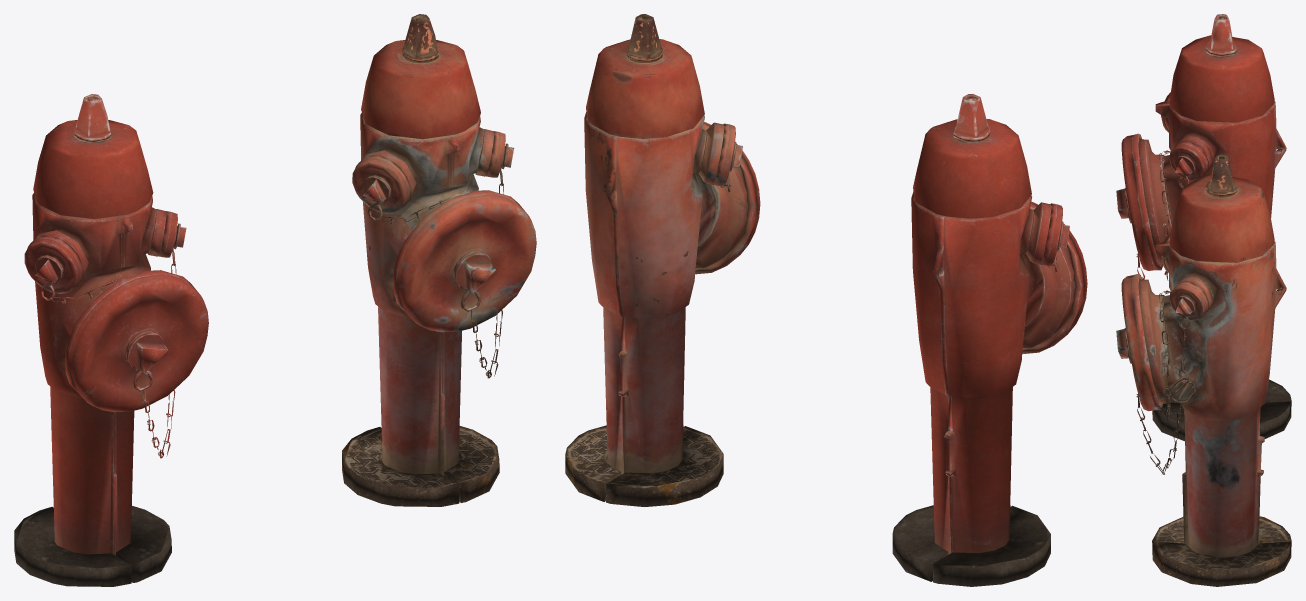
Rendered from fire_hydrant.glb.
The picture shows the model from 3 angles, left to right: view 1: azimuth 30°, elevation 25°; view 2: azimuth 150°, elevation 25°; view 3: azimuth 270°, elevation 25°; orthographic projection. The views are drawn at different scales.
Visible parts, largest first — view 1: fire_hydrant, fire_hydrant_aged, fire_hydrant_cap_01, fire_hydrant_cap_01_aged, fire_hydrant_cap_03, fire_hydrant_cap_03_aged, fire_hydrant_chain, fire_hydrant_chain_aged, fire_hydrant_cap_02, fire_hydrant_cap_02_aged; view 2: fire_hydrant, fire_hydrant_aged, fire_hydrant_cap_01, fire_hydrant_cap_01_aged, fire_hydrant_cap_03, fire_hydrant_cap_03_aged; view 3: fire_hydrant_aged, fire_hydrant, fire_hydrant_cap_01_aged, fire_hydrant_cap_01, fire_hydrant_chain_aged, fire_hydrant_cap_02, fire_hydrant_cap_02_aged, fire_hydrant_chain.
Part boxes in pixels (box(x1,y1,x2,y2)): fire_hydrant: box(14, 94, 171, 586); fire_hydrant_aged: box(342, 14, 499, 506); fire_hydrant_cap_01: box(65, 270, 208, 412); fire_hydrant_cap_01_aged: box(393, 190, 536, 332); fire_hydrant_cap_03: box(24, 235, 83, 293); fire_hydrant_cap_03_aged: box(352, 155, 411, 213); fire_hydrant_chain: box(40, 233, 176, 458); fire_hydrant_chain_aged: box(368, 148, 504, 378); fire_hydrant_cap_02: box(158, 211, 186, 257); fire_hydrant_cap_02_aged: box(486, 131, 514, 177); fire_hydrant: box(892, 94, 1075, 586); fire_hydrant_aged: box(565, 14, 748, 506); fire_hydrant_cap_01: box(1022, 201, 1087, 353); fire_hydrant_cap_01_aged: box(695, 122, 760, 274); fire_hydrant_cap_03: box(1040, 203, 1069, 266); fire_hydrant_cap_03_aged: box(713, 123, 742, 186); fire_hydrant_aged: box(1139, 154, 1291, 586); fire_hydrant: box(1139, 14, 1291, 441); fire_hydrant_cap_01_aged: box(1116, 273, 1162, 411); fire_hydrant_cap_01: box(1116, 133, 1162, 270); fire_hydrant_chain_aged: box(1136, 290, 1196, 474); fire_hydrant_cap_02: box(1169, 141, 1208, 180); fire_hydrant_cap_02_aged: box(1169, 281, 1208, 320); fire_hydrant_chain: box(1136, 150, 1190, 280).
Bounding box in the file's own units: 0.8745 × 0.7992 × 0.3173.
Materials: 2 (2 with a texture image).
